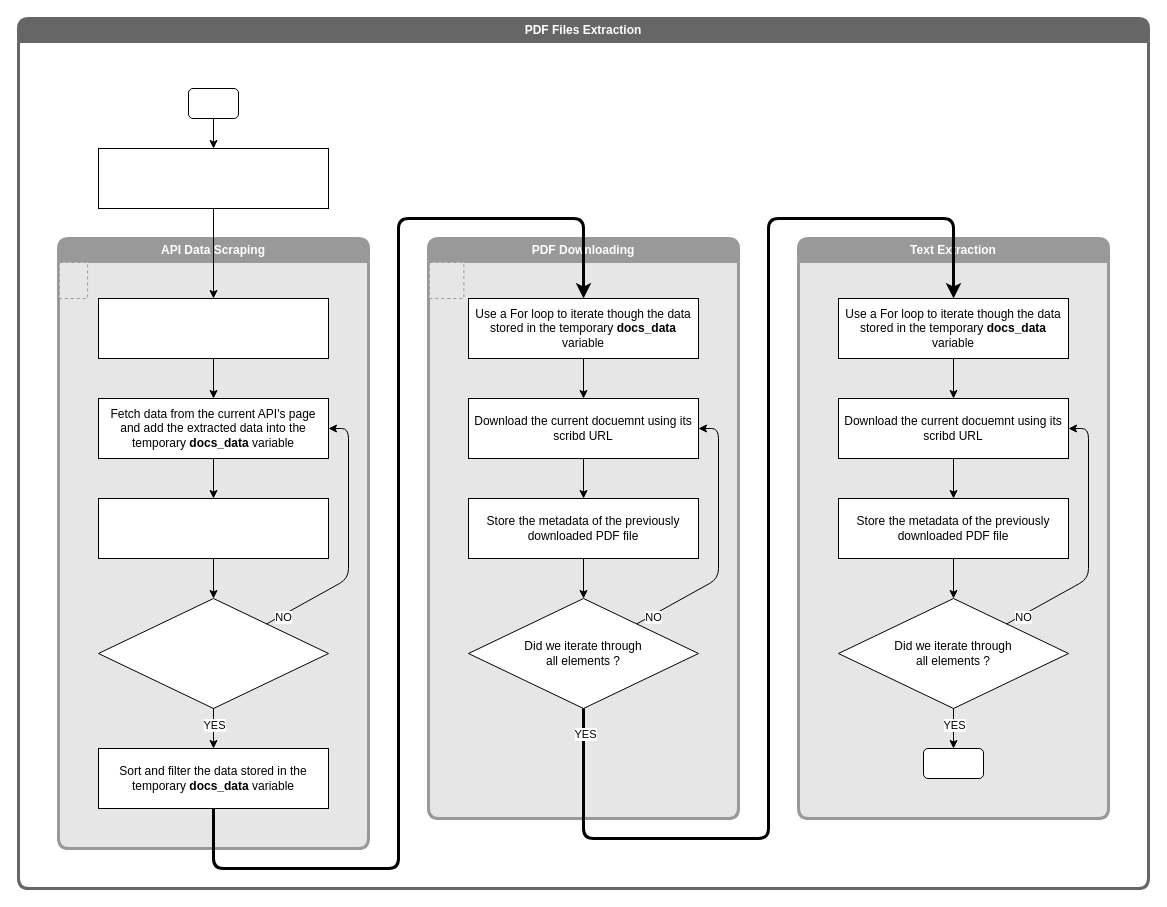
Some shapes in this 1167 by 907 pixel diagram are drawn without their labels. Grey dashed boxes stand in for pictures. Each missing label, with the centre of its shape:
Did we surpass the total number or the allowed number of parsables pages ?: (x=213, y=653)
Finish: (x=953, y=763)
Increase the current page counter: (x=213, y=528)
Initialize the global varibles and constants: (x=213, y=178)
Start: (x=213, y=103)
Start an infinite while loop: (x=213, y=328)
